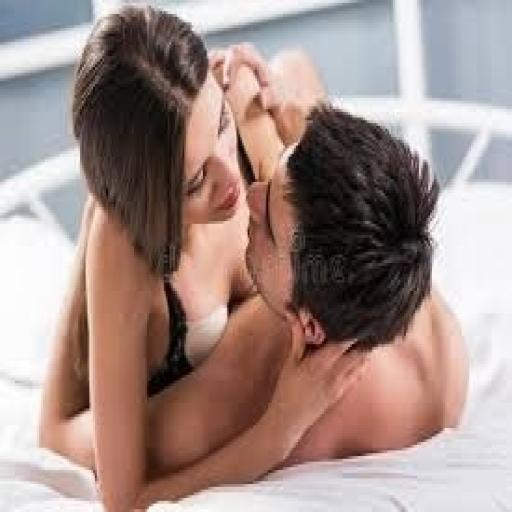hugging: (35, 0, 471, 509)
